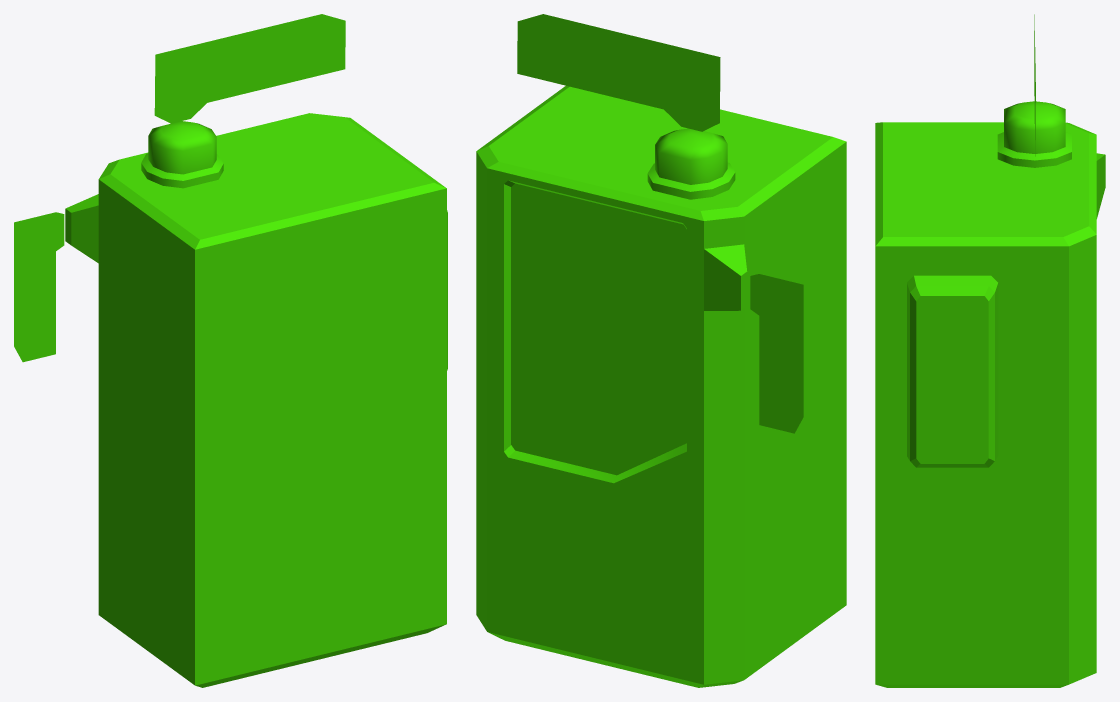
Rendered from VendingMachine_mesh 2.fbx.
3 views of the same model, side by side, from view 1: azimuth 30°, elevation 25°; view 2: azimuth 150°, elevation 25°; view 3: azimuth 270°, elevation 25° (orthographic). The views are drawn at different scales.
Parts seen in each view (by area): view 1: VendingMachine_mesh; view 2: VendingMachine_mesh; view 3: VendingMachine_mesh.
Boxes of the visible parts, bbox=[...] form: VendingMachine_mesh: bbox=[14, 14, 447, 687]; VendingMachine_mesh: bbox=[476, 14, 846, 687]; VendingMachine_mesh: bbox=[875, 14, 1105, 687].
Size of the model in its own units: 108 by 173 by 62.54.
